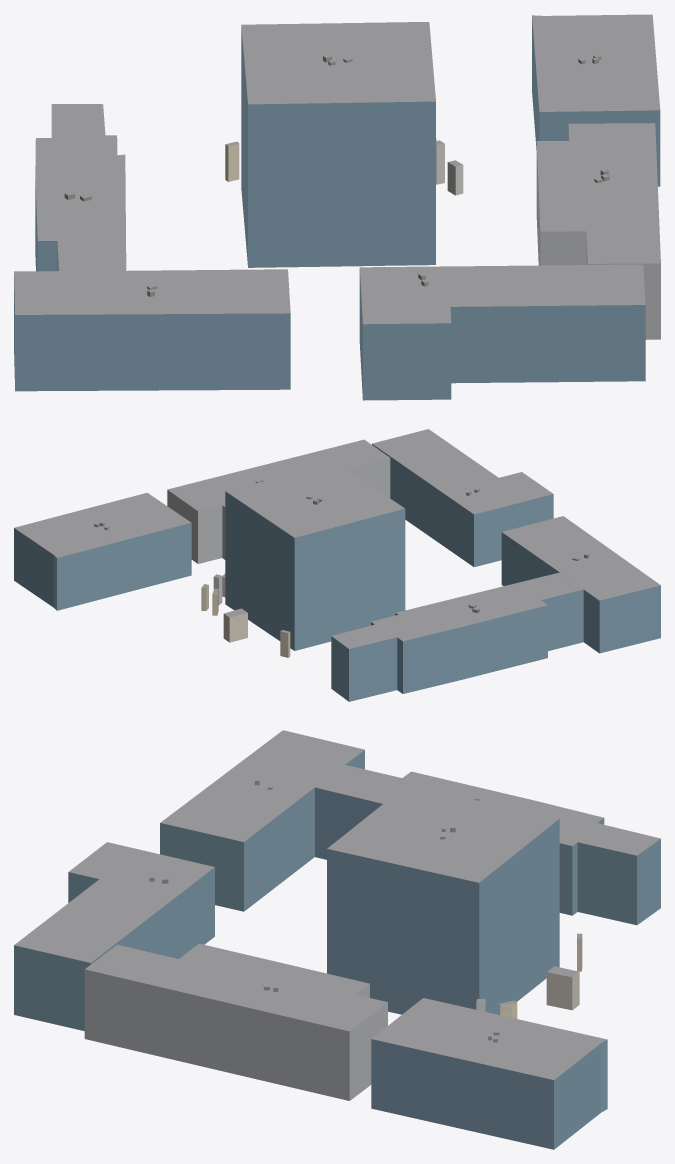
File: building_1_-7.glb
3 renders of one model, top to bottom at view 1: azimuth 30°, elevation 25°; view 2: azimuth 150°, elevation 25°; view 3: azimuth 270°, elevation 25°, orthographic. The views are drawn at different scales.
Visible parts, largest first — view 1: roof, glass_blue, industrial, concrete_light; view 2: glass_blue, roof, industrial, concrete_warm, sandstone; view 3: glass_blue, roof, industrial, concrete_warm.
Boxes of the visible parts, <box> form: roof: <box>14,14,660,324</box>; glass_blue: <box>14,17,660,400</box>; industrial: <box>536,129,660,339</box>; concrete_light: <box>436,144,463,195</box>; glass_blue: <box>14,444,660,701</box>; roof: <box>14,429,660,648</box>; industrial: <box>167,458,390,563</box>; concrete_warm: <box>223,613,247,642</box>; sandstone: <box>201,585,290,657</box>; glass_blue: <box>14,750,660,1149</box>; roof: <box>14,730,660,1079</box>; industrial: <box>84,969,387,1100</box>; concrete_warm: <box>546,972,579,1010</box>.
Size of the model in its own units: 302 by 61.72 by 236.
